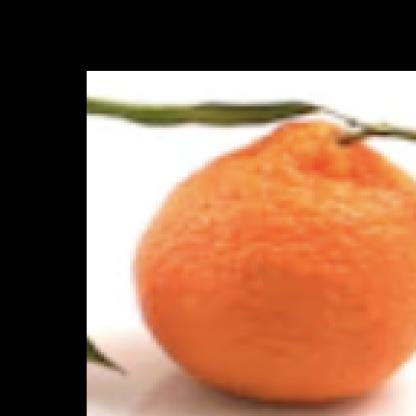fresh: (131, 114, 416, 416)
